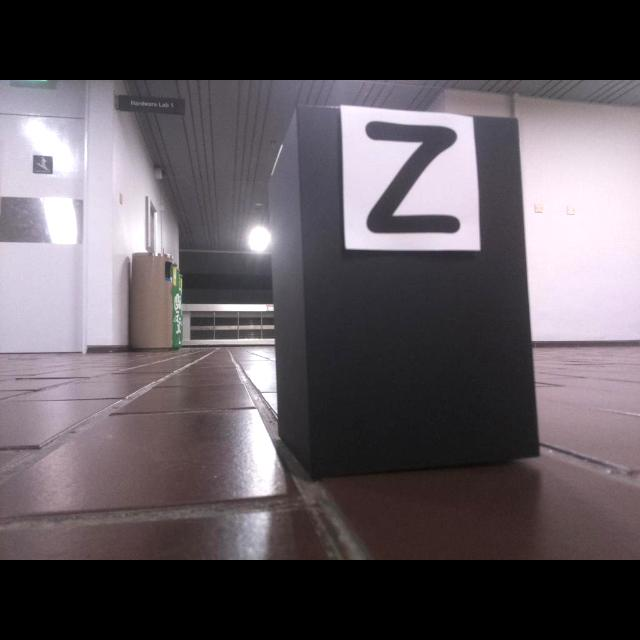Z: (366, 122, 460, 233)
